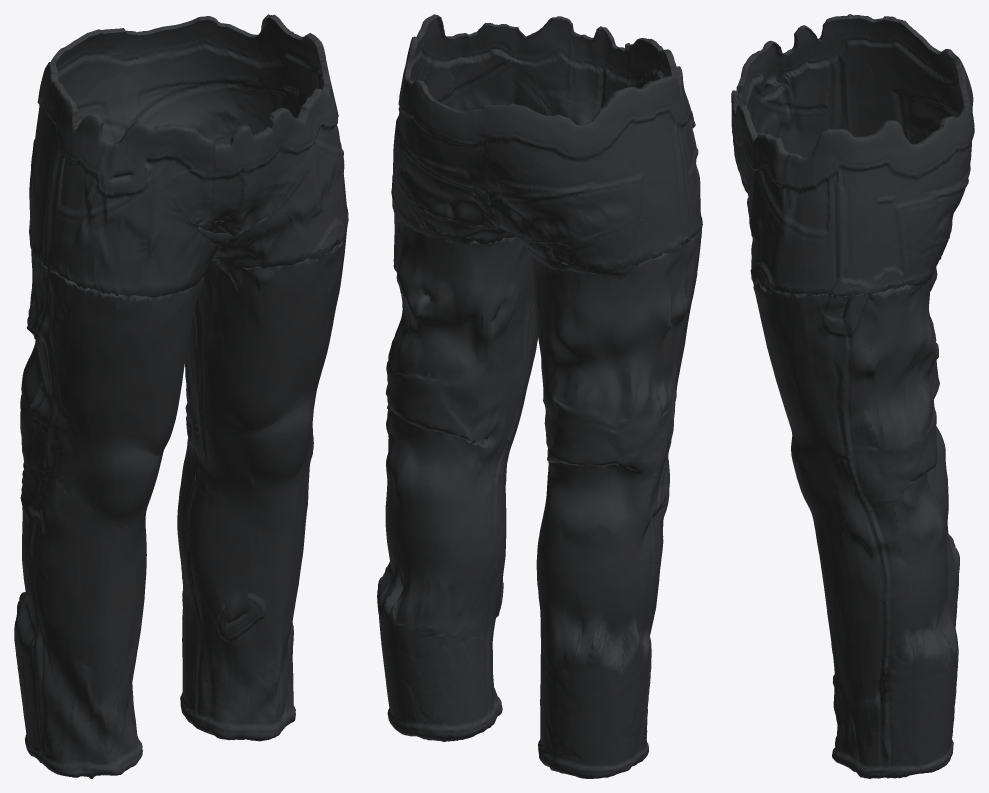
File: bottom_trousers.glb
3 views of the same model, side by side, from view 1: azimuth 30°, elevation 25°; view 2: azimuth 150°, elevation 25°; view 3: azimuth 270°, elevation 25° (orthographic). The views are drawn at different scales.
Visible parts, largest first — view 1: bottom_trousers; view 2: bottom_trousers; view 3: bottom_trousers.
Part boxes in pixels (left/top/right/bottom): bottom_trousers: left=14, top=14, right=348, bottom=778; bottom_trousers: left=377, top=14, right=702, bottom=778; bottom_trousers: left=731, top=14, right=974, bottom=778.
Size of the model in its own units: 0.3506 by 0.7993 by 0.2675.
1 material, 1 textured.
